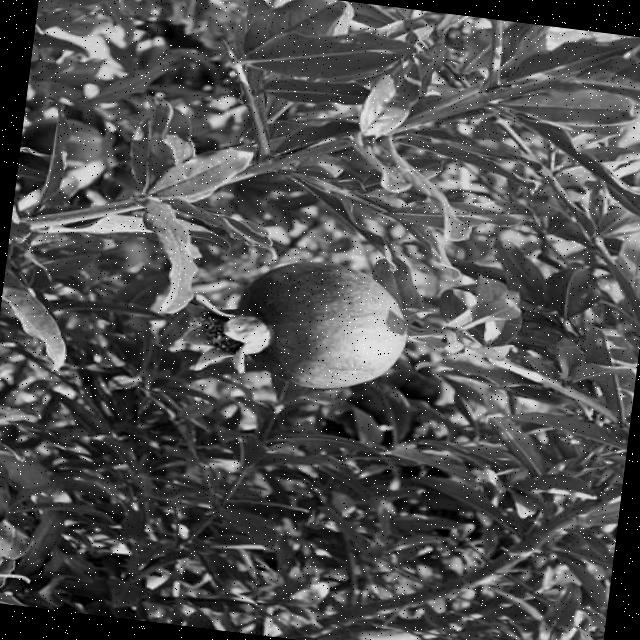Unripe: (172, 247, 418, 398)
